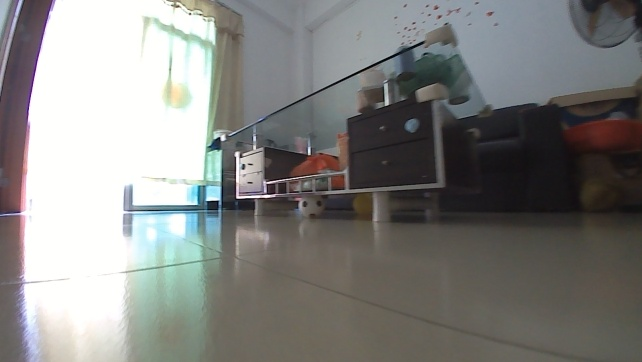sofa1: (456, 100, 582, 215)
tea_table: (218, 15, 495, 225)
